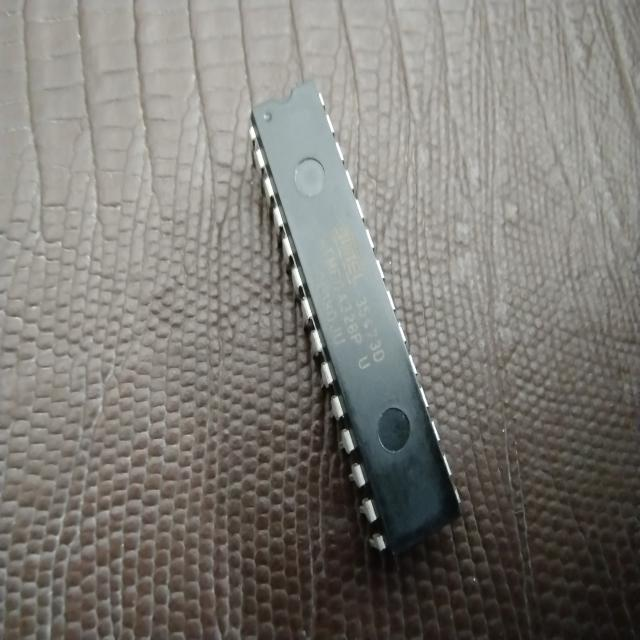atmega: (246, 78, 463, 559)
